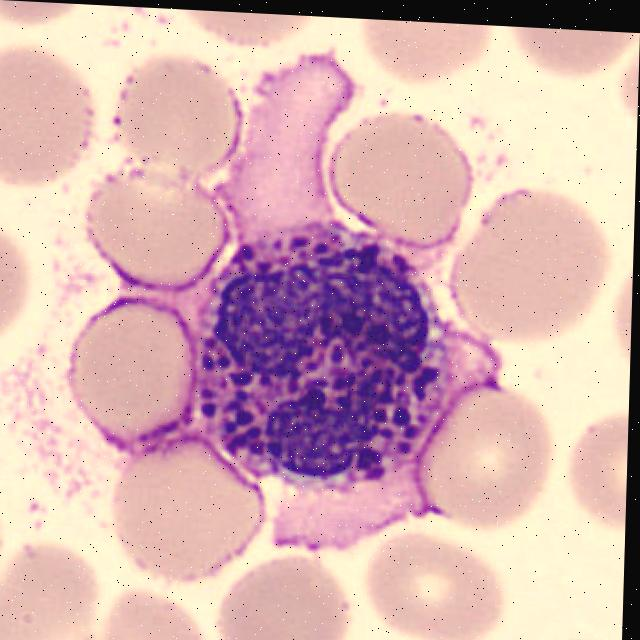basophil: (191, 210, 429, 486)
rbc: (441, 191, 604, 341), (407, 378, 553, 529), (74, 157, 231, 292), (321, 104, 475, 241), (114, 441, 257, 578), (68, 298, 194, 444), (350, 533, 521, 640), (114, 52, 243, 173), (196, 545, 353, 640), (0, 51, 94, 188), (0, 534, 94, 639), (353, 18, 493, 87), (561, 395, 629, 532), (497, 27, 636, 90), (97, 582, 208, 640), (0, 222, 47, 342), (183, 10, 304, 50), (537, 623, 618, 640)
